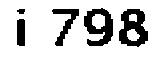7: (48, 5, 80, 49)
8: (117, 6, 149, 50)
9: (82, 6, 117, 48)
i: (14, 9, 36, 52)
